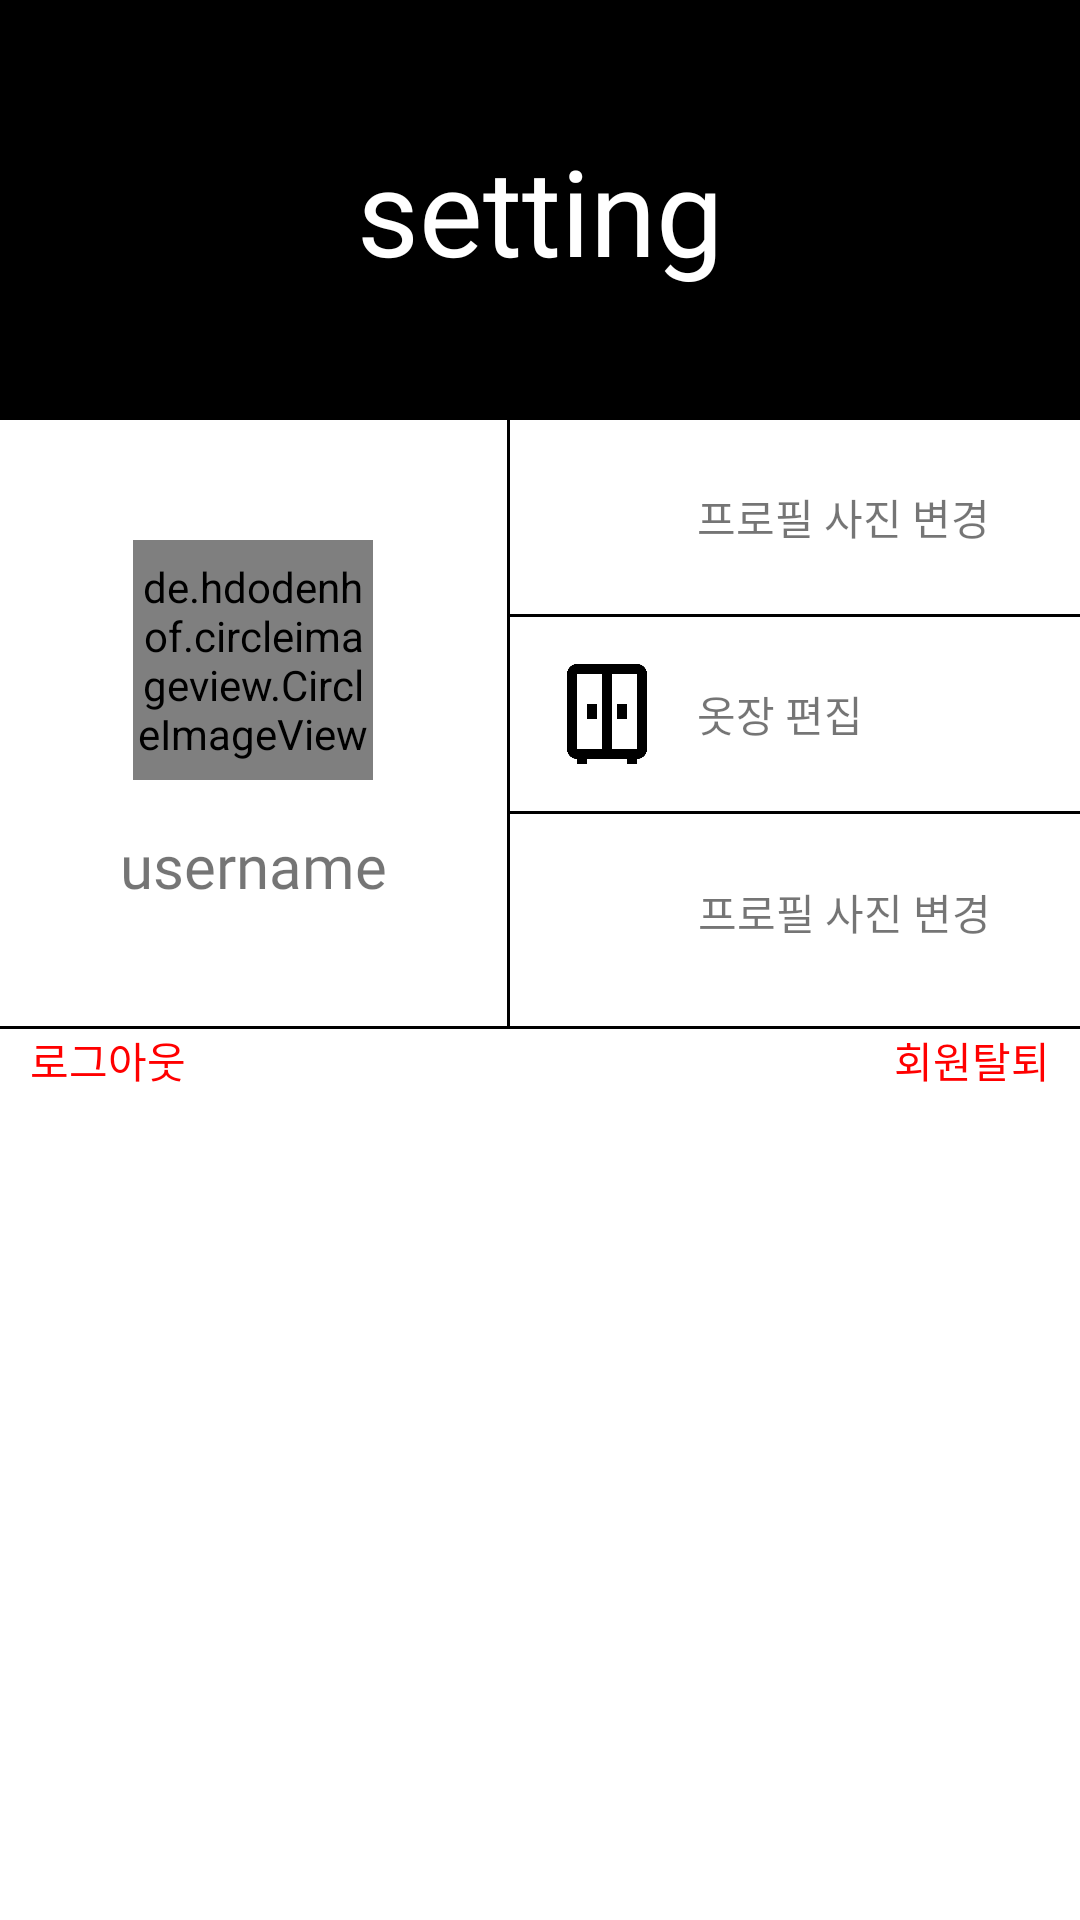

Locate icon controls on the screen. Image size 1080x1920, boxes as detection(x1, y1, x2, y2).
closet: detection(567, 664, 647, 764)
